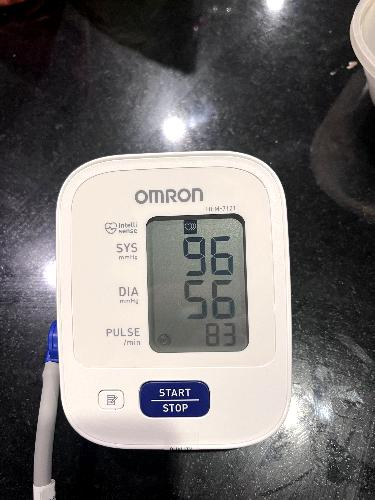bpm: (141, 213, 249, 353)
